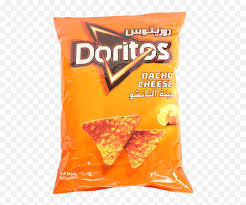Doritos: (50, 11, 200, 196)
